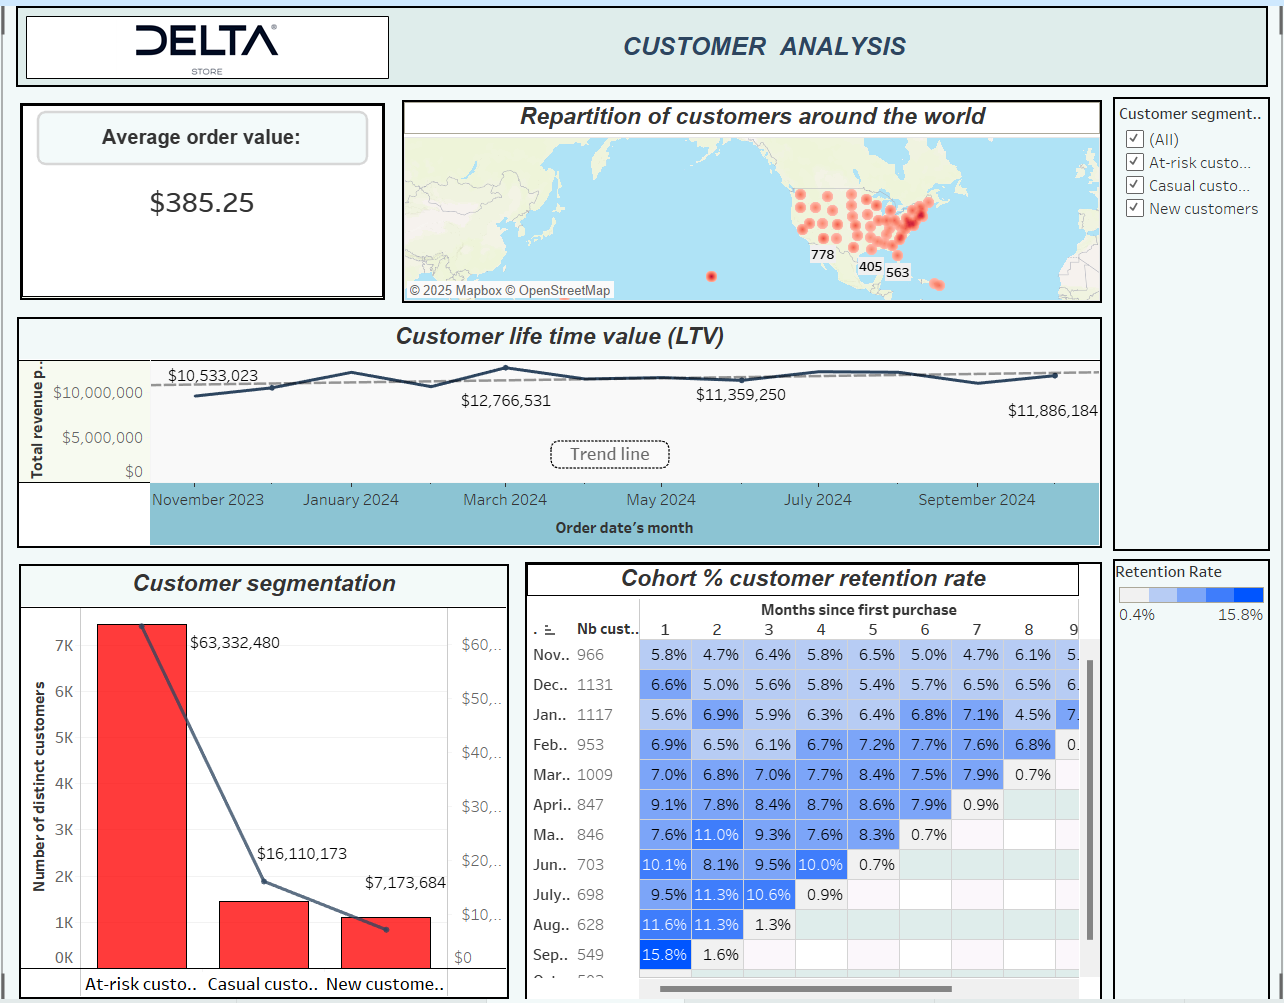

The dashboard page shown, as its layout file describes it:
{"tool":"tableau","page":{"name":"CUSTOMER ANALYSIS","canvas":[1000,1000],"units":"permille","ordinal":0},"visuals":[{"type":"worksheet","title":"average order value","mark":"Automatic","box":[12.3,9.3,189.2,196]},{"type":"worksheet","title":"Life time value","mark":"Automatic","rows":["Calculation_43065728079265792"],"cols":["order_date"],"box":[201.5,9.3,610.8,196]},{"type":"filter","title":"Repartition of customers in world","param":"[federated.0v9k3h11ha49oy16uwvx20vguj4d].[none:Calculation_43065728084525064:nk]","box":[812.3,9.3,175.4,148.8]},{"type":"legend","title":"Repartition of customers in world","param":"[federated.0v9k3h11ha49oy16uwvx20vguj4d].[cnt:unified_customer_id:qk]","box":[812.3,158.1,175.4,84.9]},{"type":"worksheet","title":"Repartition of customers in world","mark":"Heatmap","box":[12.3,205.3,800,394.6]},{"type":"legend","title":"Cohort retention analysis","param":"[federated.0v9k3h11ha49oy16uwvx20vguj4d].[pcto:ctd:unified_customer_id (fct_orde","box":[812.3,243,175.4,84.9]},{"type":"filter","title":"Life time value","param":"[federated.0v9k3h11ha49oy16uwvx20vguj4d].[none:Calculation_43065728084525064:nk]","box":[812.3,327.9,175.4,148.8]},{"type":"worksheet","title":"Cohort retention analysis","mark":"Automatic","rows":["Calculation_43065728082120708","Calculation_43065728819085330"],"cols":["Calculation_43065728191315979"],"box":[12.3,599.8,800,212.3]},{"type":"worksheet","title":"customer segmentation","mark":"Bar","rows":["unified_customer_id (fct_order_customers.csv)","Calculation_43065728079265792"],"cols":["Calculation_43065728084525064"],"box":[12.3,812.1,800,178.6]}]}

Visuals, with their boxes on the dashboard's canvas, which has no fixed pixel size, in thousandths of its width and height (x1, y1, x2, y2). These are canvas units, not pixel positions in the 1284x1003 screenshot, which may show the page scaled, cropped or inside an application window:
"average order value" worksheet: 12 9 202 205
"Life time value" worksheet: 202 9 812 205
"Repartition of customers in world" filter: 812 9 988 158
"Repartition of customers in world" legend: 812 158 988 243
"Repartition of customers in world" worksheet (Heatmap marks): 12 205 812 600
"Cohort retention analysis" legend: 812 243 988 328
"Life time value" filter: 812 328 988 477
"Cohort retention analysis" worksheet: 12 600 812 812
"customer segmentation" worksheet (Bar marks): 12 812 812 991
